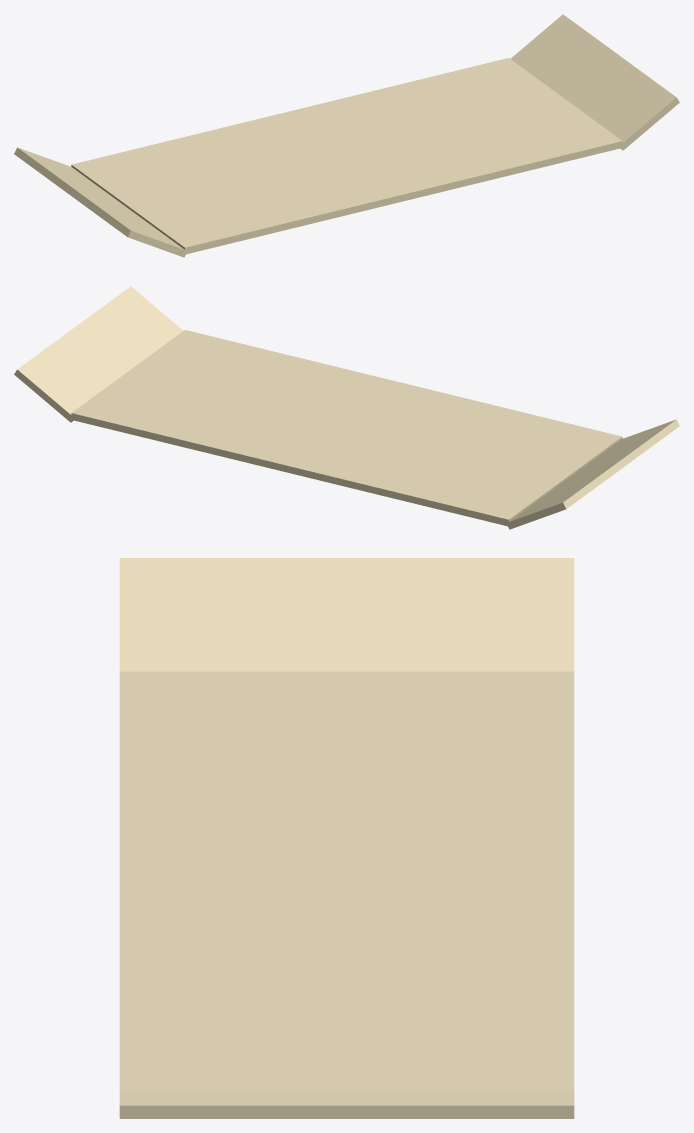
File: overlay_tape_trap.glb
3 views of the same model, one above another, from view 1: azimuth 30°, elevation 25°; view 2: azimuth 150°, elevation 25°; view 3: azimuth 270°, elevation 25° (orthographic). The views are drawn at different scales.
Parts seen in each view (by area): view 1: overlay_tape_trap; view 2: overlay_tape_trap; view 3: overlay_tape_trap.
Boxes of the visible parts, left/top/right/bottom form: overlay_tape_trap: left=14, top=14, right=679, bottom=257; overlay_tape_trap: left=14, top=286, right=679, bottom=529; overlay_tape_trap: left=119, top=558, right=574, bottom=1118.
Bounding box in the file's own units: 1.01 × 0.0704 × 0.36.
